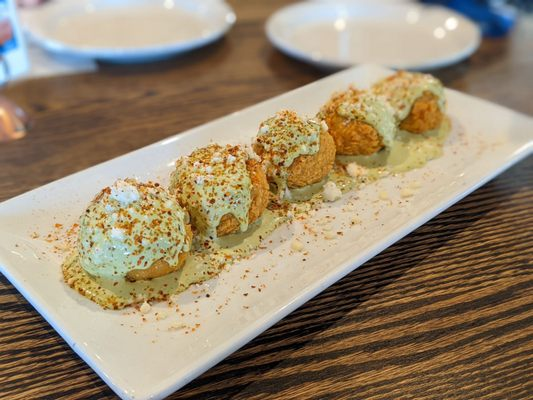curry: (1, 0, 533, 400)
sushi: (251, 109, 337, 200)
